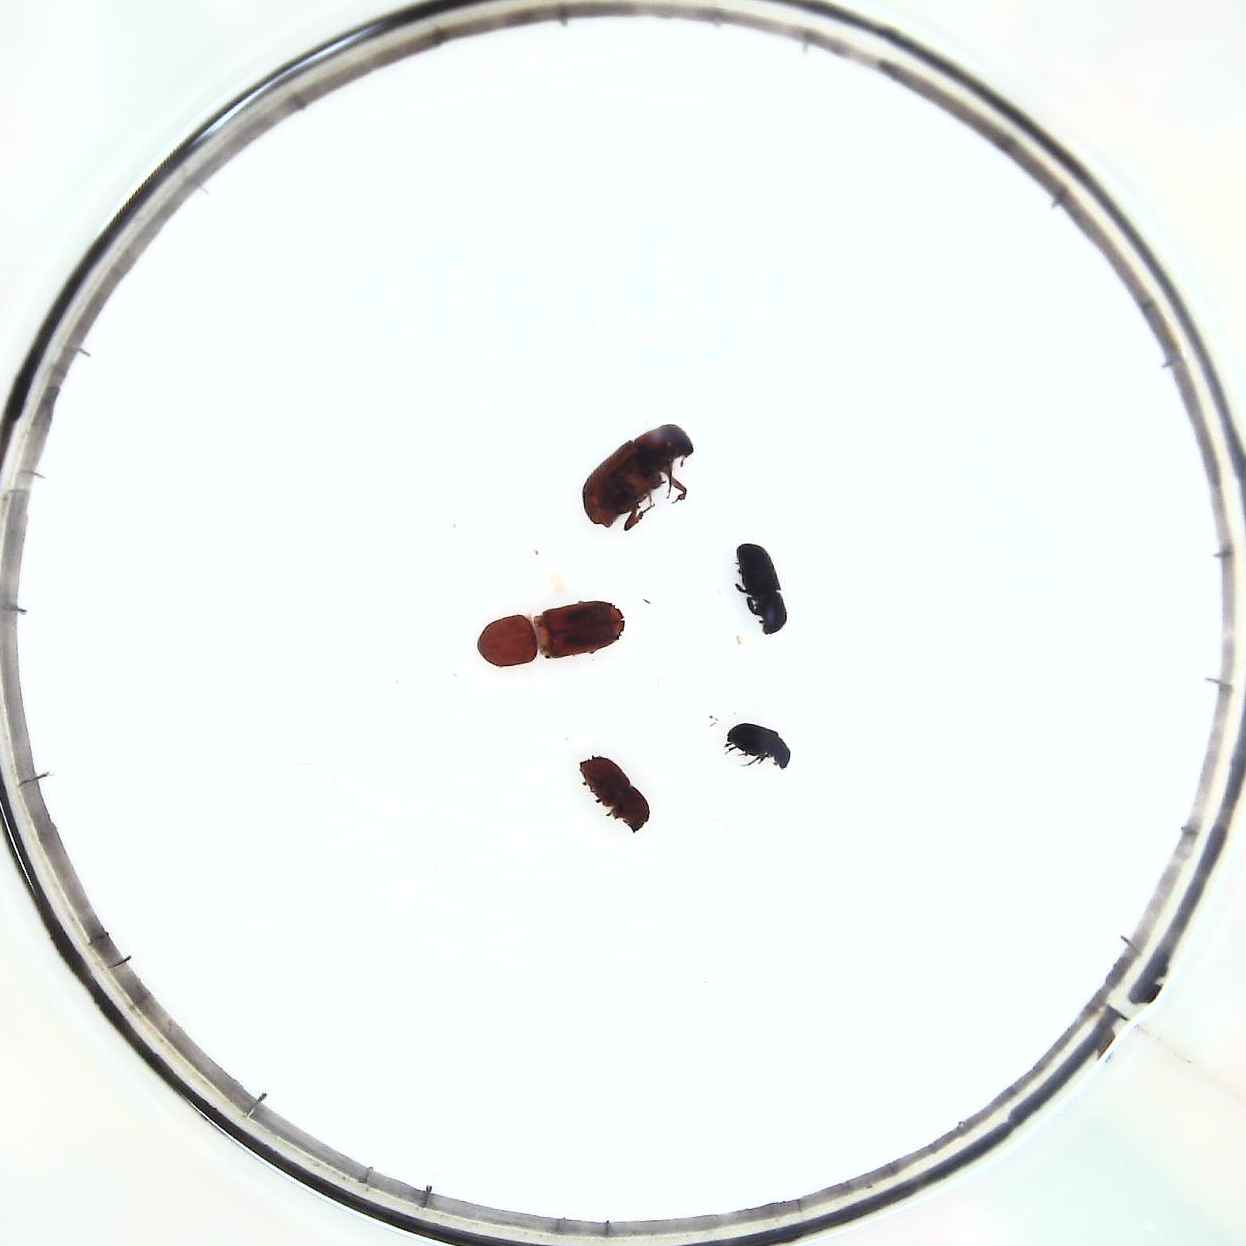Boerner: (479, 599, 628, 665)
Leconte: (582, 420, 696, 536)
Linnaeus: (578, 751, 655, 836)
armandi: (730, 539, 788, 638)
coleoptera: (721, 725, 796, 771)
